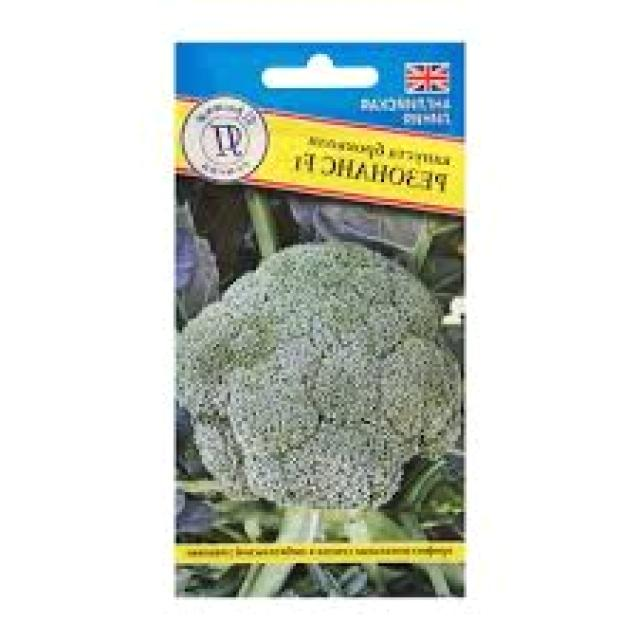broccoli: (129, 226, 456, 514)
